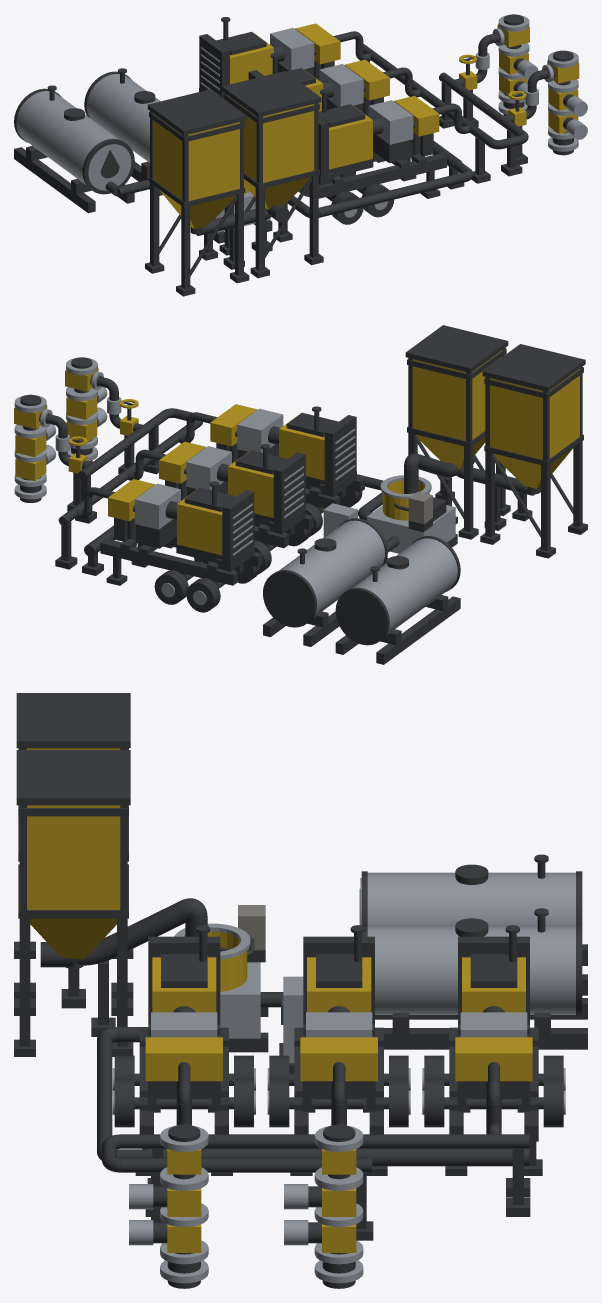
The model's file is fracking_oil_well_lvl2.glb.
3 views of the same model, one above another, from view 1: azimuth 30°, elevation 25°; view 2: azimuth 150°, elevation 25°; view 3: azimuth 270°, elevation 25° (orthographic). The views are drawn at different scales.
Visible parts, largest first — view 1: fracking_oil_well; view 2: fracking_oil_well; view 3: fracking_oil_well.
Boxes of the visible parts, bbox=[...] form: fracking_oil_well: bbox=[14, 14, 587, 296]; fracking_oil_well: bbox=[14, 325, 587, 664]; fracking_oil_well: bbox=[14, 693, 587, 1288].
Bounding box in the file's own units: 0.9954 × 0.349 × 0.7048.
